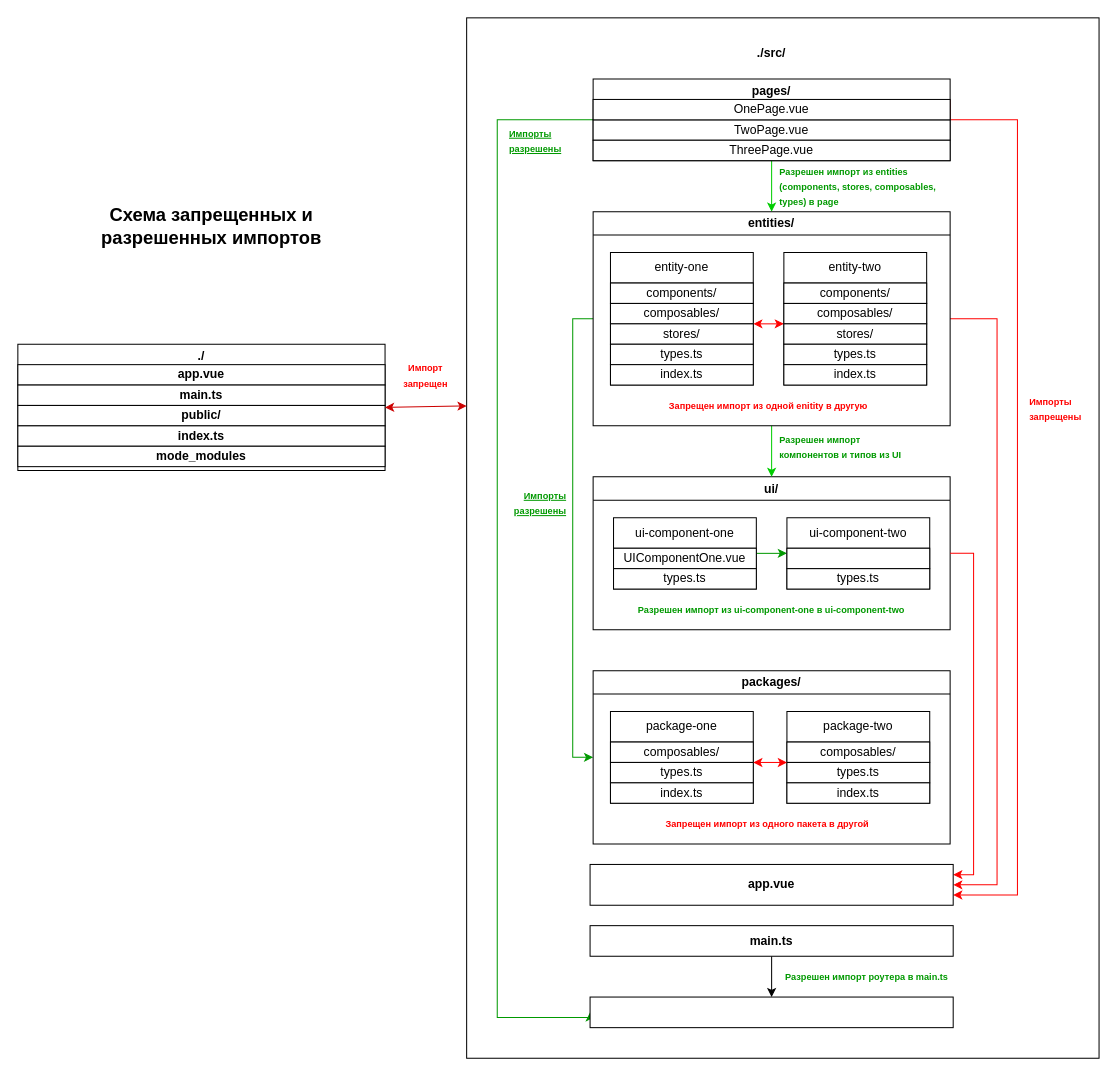
Some shapes in this 1117 by 1076 pixel diagram are drawn without their labels. The shapes that lost their labels are listed below. From the top down, each one's centre as x and y in pixels, then its label:
the point at 858,558: UIComponentTwo.vue
the point at 771,1012: router/
